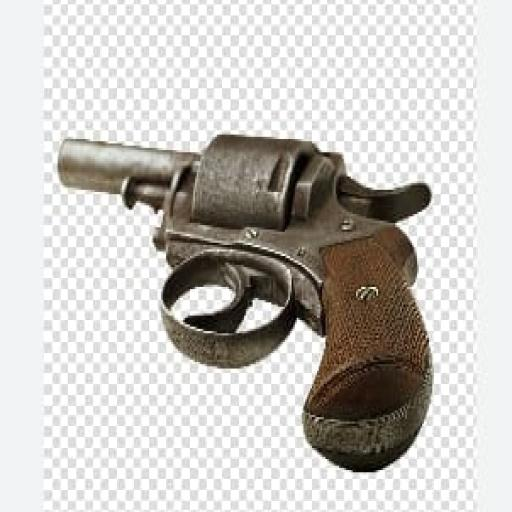Gun: (59, 135, 431, 468)
